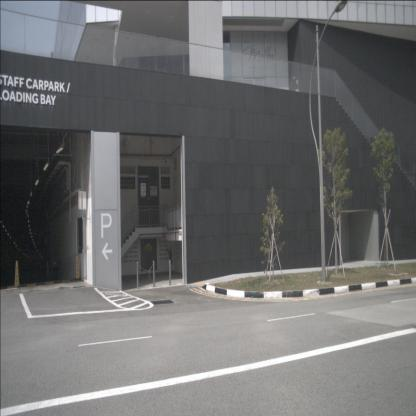cone: (74, 256, 81, 280), (14, 260, 20, 287)
